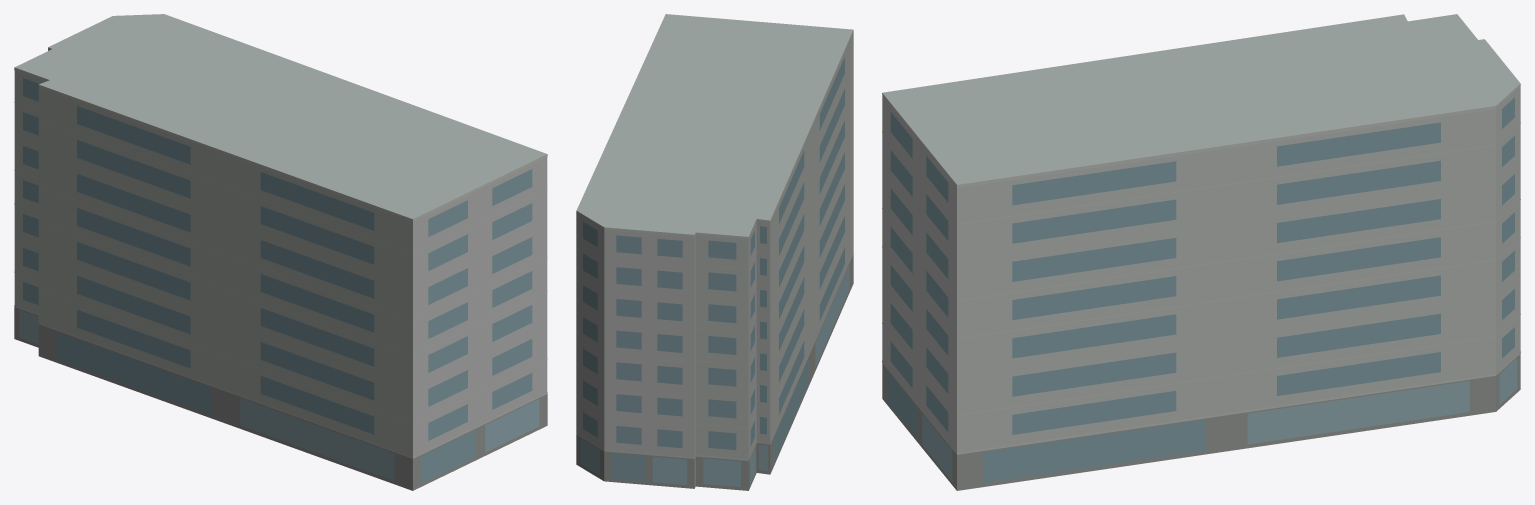
Rendered from survey-upis-32707157.glb.
3 renders of one model, left to right at view 1: azimuth 30°, elevation 25°; view 2: azimuth 150°, elevation 25°; view 3: azimuth 270°, elevation 25°, orthographic. The views are drawn at different scales.
Visible parts, largest first — view 1: survey-upis-32707157.tmp; view 2: survey-upis-32707157.tmp; view 3: survey-upis-32707157.tmp.
Boxes of the visible parts, x1,y1,x2,y2 form: survey-upis-32707157.tmp: [14, 14, 547, 490]; survey-upis-32707157.tmp: [576, 14, 853, 490]; survey-upis-32707157.tmp: [882, 14, 1520, 490].
Size of the model in its own units: 27.57 by 23 by 43.51.
